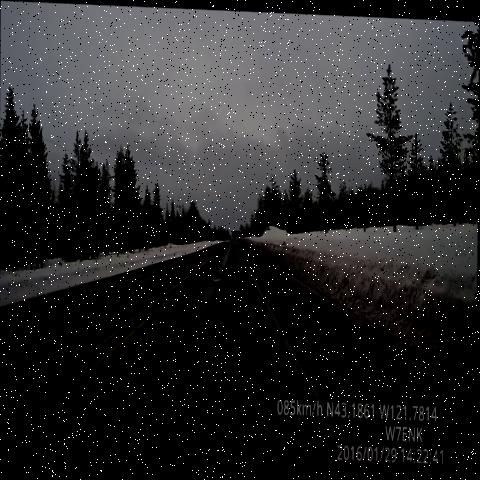pothole: (180, 256, 230, 299)
